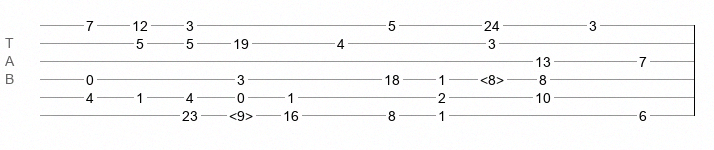0: (86, 72, 94, 82), (237, 90, 245, 100)
1: (136, 90, 144, 100), (287, 90, 295, 100), (438, 108, 446, 118), (438, 72, 446, 82)
10: (535, 90, 551, 100)
12: (132, 18, 148, 28)
13: (535, 54, 551, 64)
16: (283, 108, 299, 118)
18: (384, 72, 400, 82)
19: (233, 36, 249, 46)
2: (438, 90, 446, 100)
23: (182, 108, 198, 118)
24: (484, 18, 500, 28)
3: (186, 18, 194, 28), (237, 72, 245, 82), (488, 36, 496, 46), (589, 18, 597, 28)
4: (86, 90, 94, 100), (186, 90, 194, 100), (337, 36, 345, 46)
5: (136, 36, 144, 46), (186, 36, 194, 46), (388, 18, 396, 28)
6: (639, 108, 647, 118)
7: (86, 18, 94, 28), (639, 54, 647, 64)
8: (388, 108, 396, 118), (539, 72, 547, 82)
harmonic: (229, 108, 253, 118), (480, 72, 504, 82)
